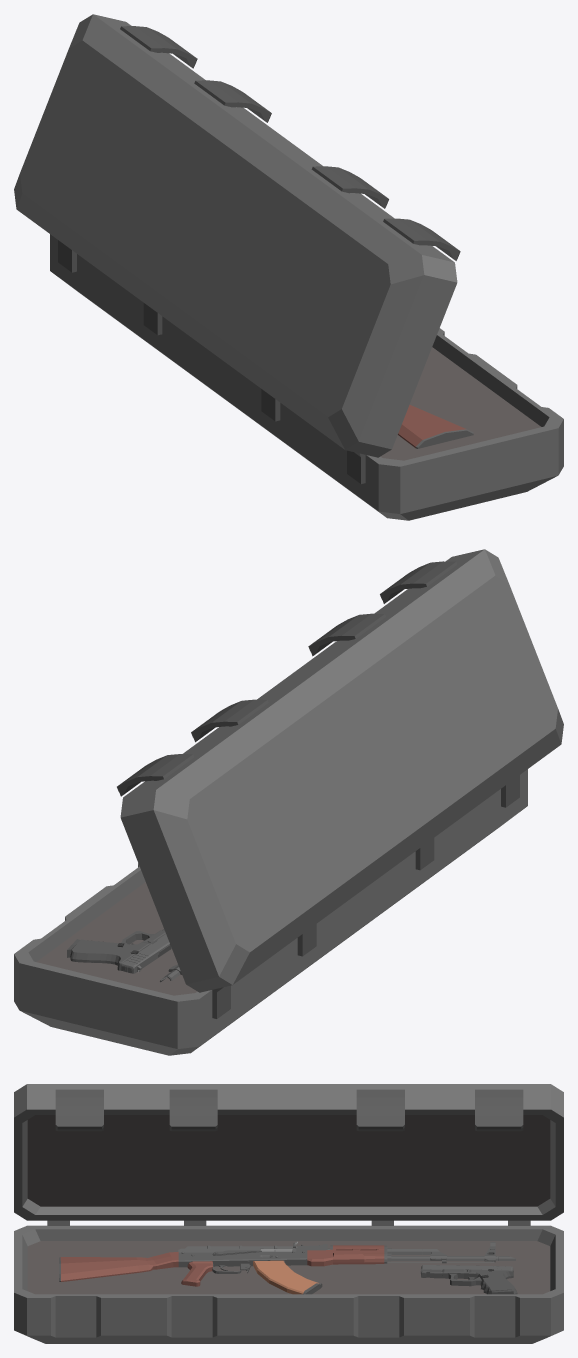
The model's file is scene_jMKKIleICE.glb.
The picture shows the model from 3 angles, top to bottom: view 1: azimuth 30°, elevation 25°; view 2: azimuth 150°, elevation 25°; view 3: azimuth 270°, elevation 25°; orthographic projection. The views are drawn at different scales.
Parts seen in each view (by area): view 1: GunCase_Cube, AKM_model_model; view 2: GunCase_Cube, Glock19.001_Cube.004; view 3: GunCase_Cube, AKM_model_model, Glock19.001_Cube.004.
Boxes of the visible parts, x1=… form: GunCase_Cube: x1=14, y1=14, x2=563, y2=520; AKM_model_model: x1=398, y1=405, x2=473, y2=448; GunCase_Cube: x1=14, y1=549, x2=563, y2=1055; Glock19.001_Cube.004: x1=67, y1=929, x2=171, y2=973; GunCase_Cube: x1=14, y1=1084, x2=563, y2=1343; AKM_model_model: x1=59, y1=1241, x2=515, y2=1294; Glock19.001_Cube.004: x1=420, y1=1265, x2=517, y2=1294.
Bounding box in the file's own units: 1.53 × 1.73 × 4.06.
